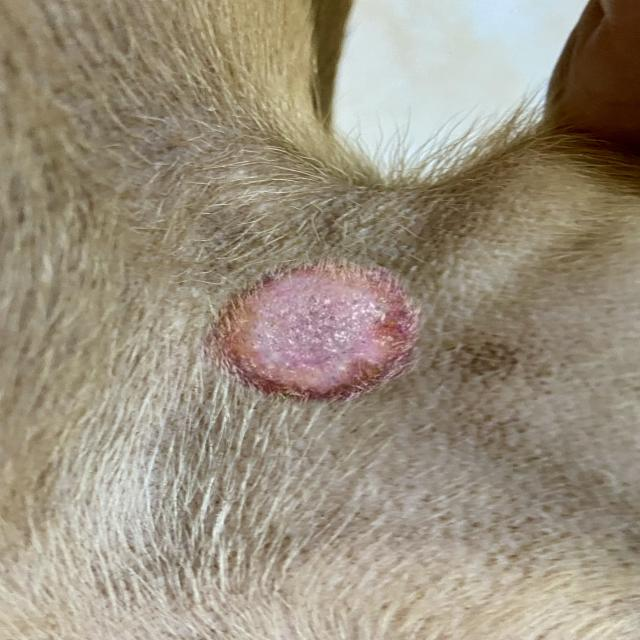ringworm: (185, 252, 464, 421)
